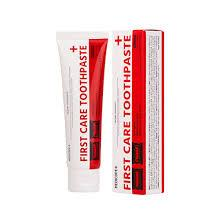toothpaste: (51, 28, 107, 198)
